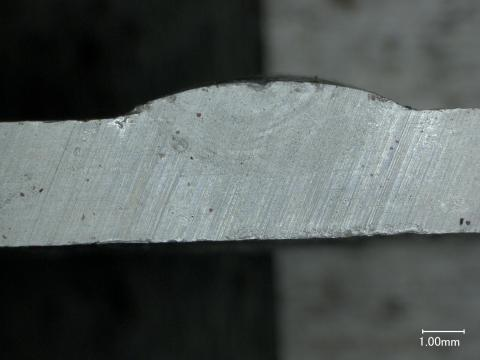test: (113, 82, 406, 120)
